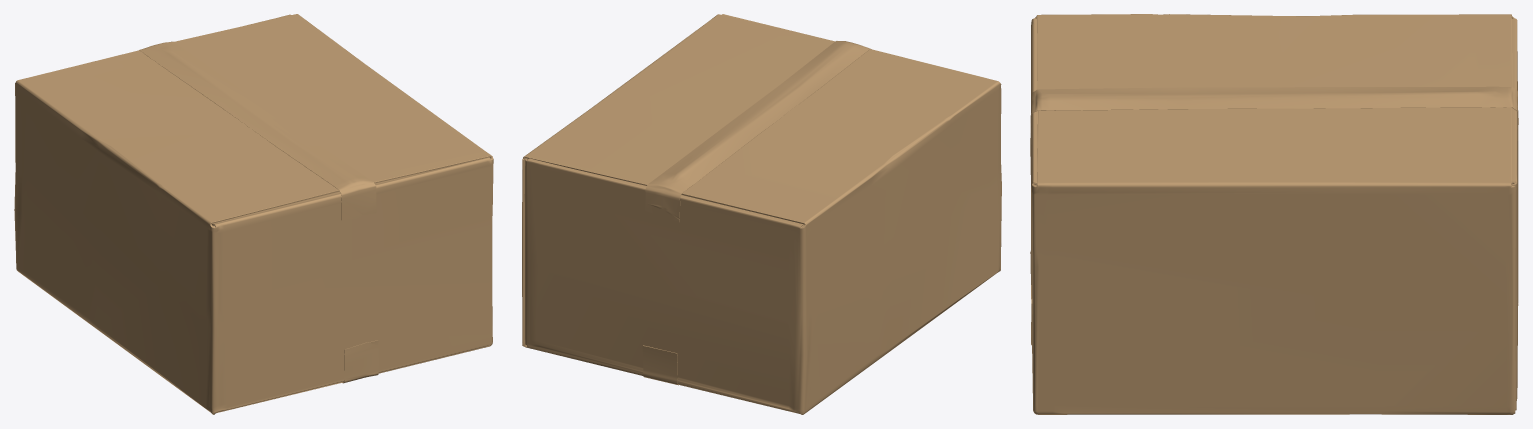
The model's file is box_flat_brown_b11.glb.
3 views of the same model, side by side, from view 1: azimuth 30°, elevation 25°; view 2: azimuth 150°, elevation 25°; view 3: azimuth 270°, elevation 25° (orthographic). The views are drawn at different scales.
Size of the model in its own units: 0.2493 by 0.1648 by 0.3035.
